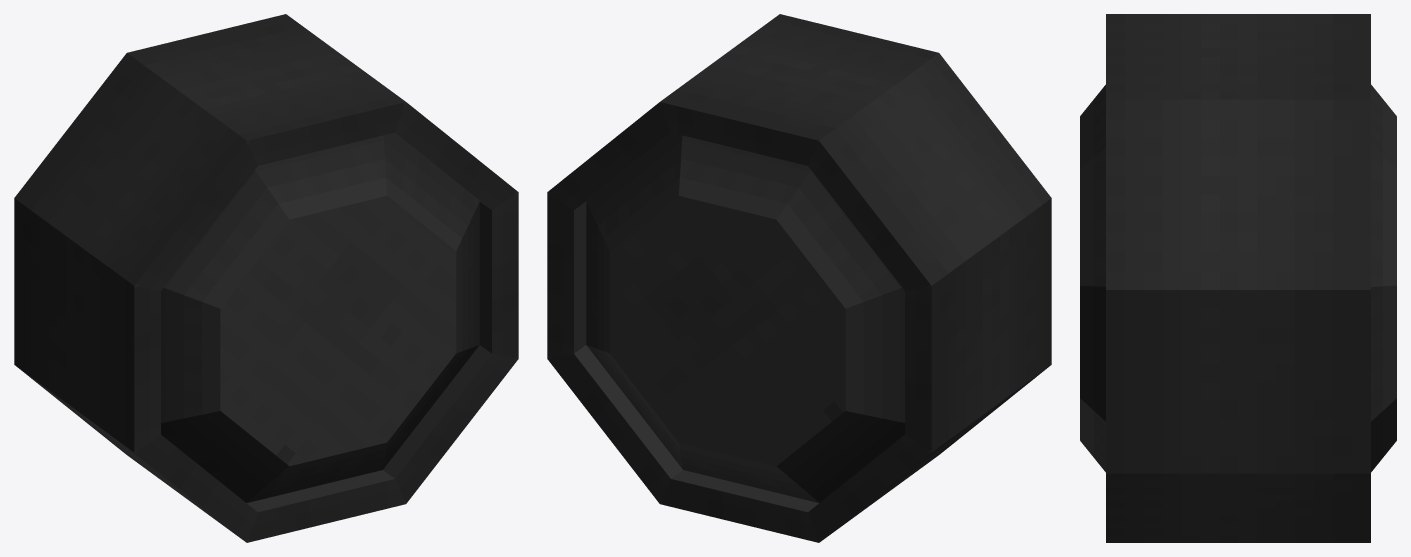
The model's file is flywheel_light.obj.
3 views of the same model, side by side, from view 1: azimuth 30°, elevation 25°; view 2: azimuth 150°, elevation 25°; view 3: azimuth 270°, elevation 25° (orthographic). The views are drawn at different scales.
Visible parts, largest first — view 1: Цилиндр; view 2: Цилиндр; view 3: Цилиндр.
Part boxes in pixels (x1,y1,x2,y2): Цилиндр: [14, 14, 518, 542]; Цилиндр: [547, 14, 1051, 542]; Цилиндр: [1080, 14, 1396, 542].
Bounding box in the file's own units: 1.22 × 1.22 × 0.7905.
